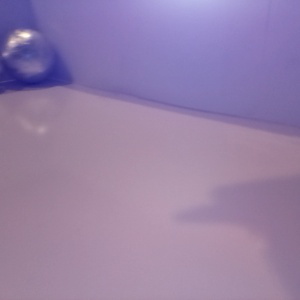alive_ball: (2, 27, 55, 85)
